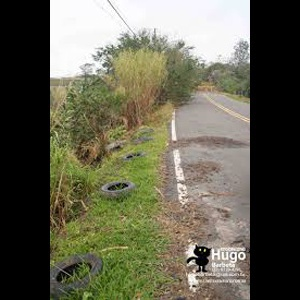tire: (50, 254, 104, 300), (101, 179, 135, 199), (121, 151, 145, 162)
